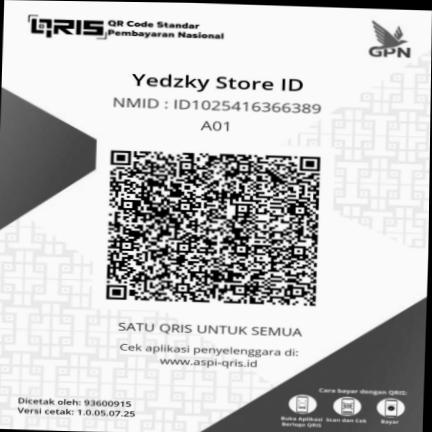Cara Pakai QRIS: (270, 384, 419, 432)
Cek Aplikasi Penyelenggara: (104, 338, 317, 375)
Dicetak Oleh: (13, 395, 136, 408)
Logo GPN: (357, 16, 422, 63)
Logo dan deskripsi QRIS: (18, 11, 236, 47)
Nama Merchant: (119, 69, 308, 96)
National Merchant ID: (105, 94, 333, 120)
QR Code: (92, 135, 333, 312)
Slogan: (110, 316, 313, 340)
Terminal ID: (195, 118, 237, 133)
Versi Cetak: (13, 405, 138, 419)
